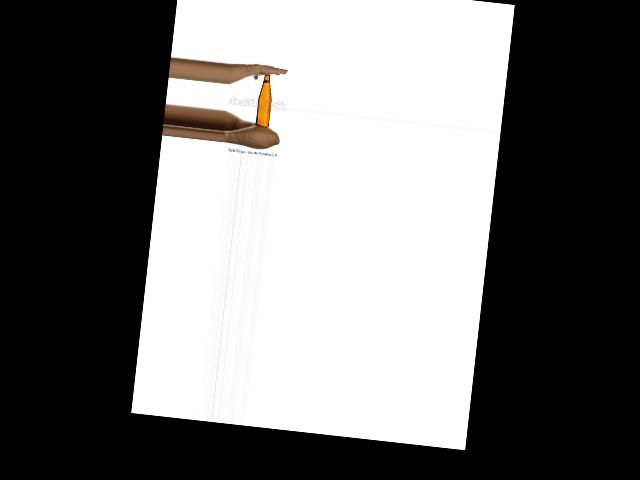beer: (254, 72, 274, 127)
